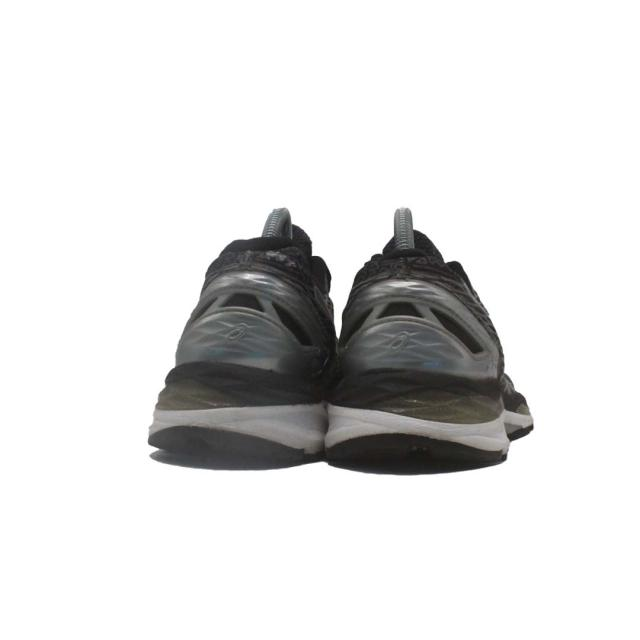heel: (166, 211, 322, 381), (343, 226, 495, 381)
midsole: (159, 364, 526, 470)
